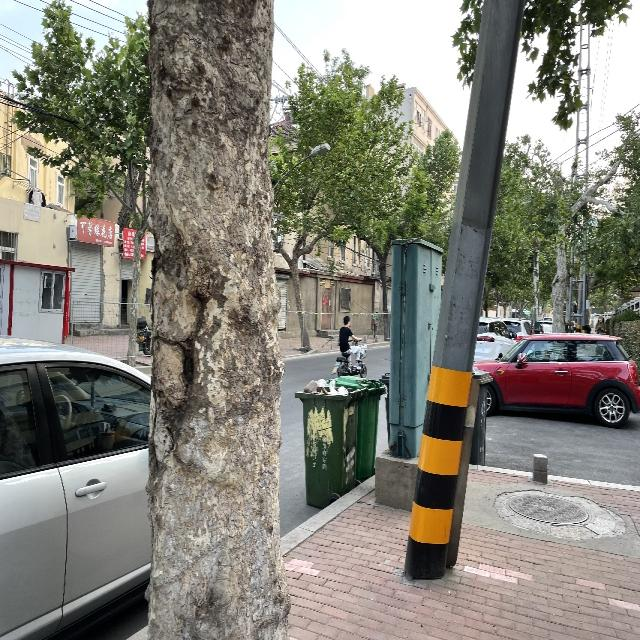garbage_bin: (336, 374, 384, 480), (470, 365, 493, 464)
overflow: (295, 377, 361, 508)
